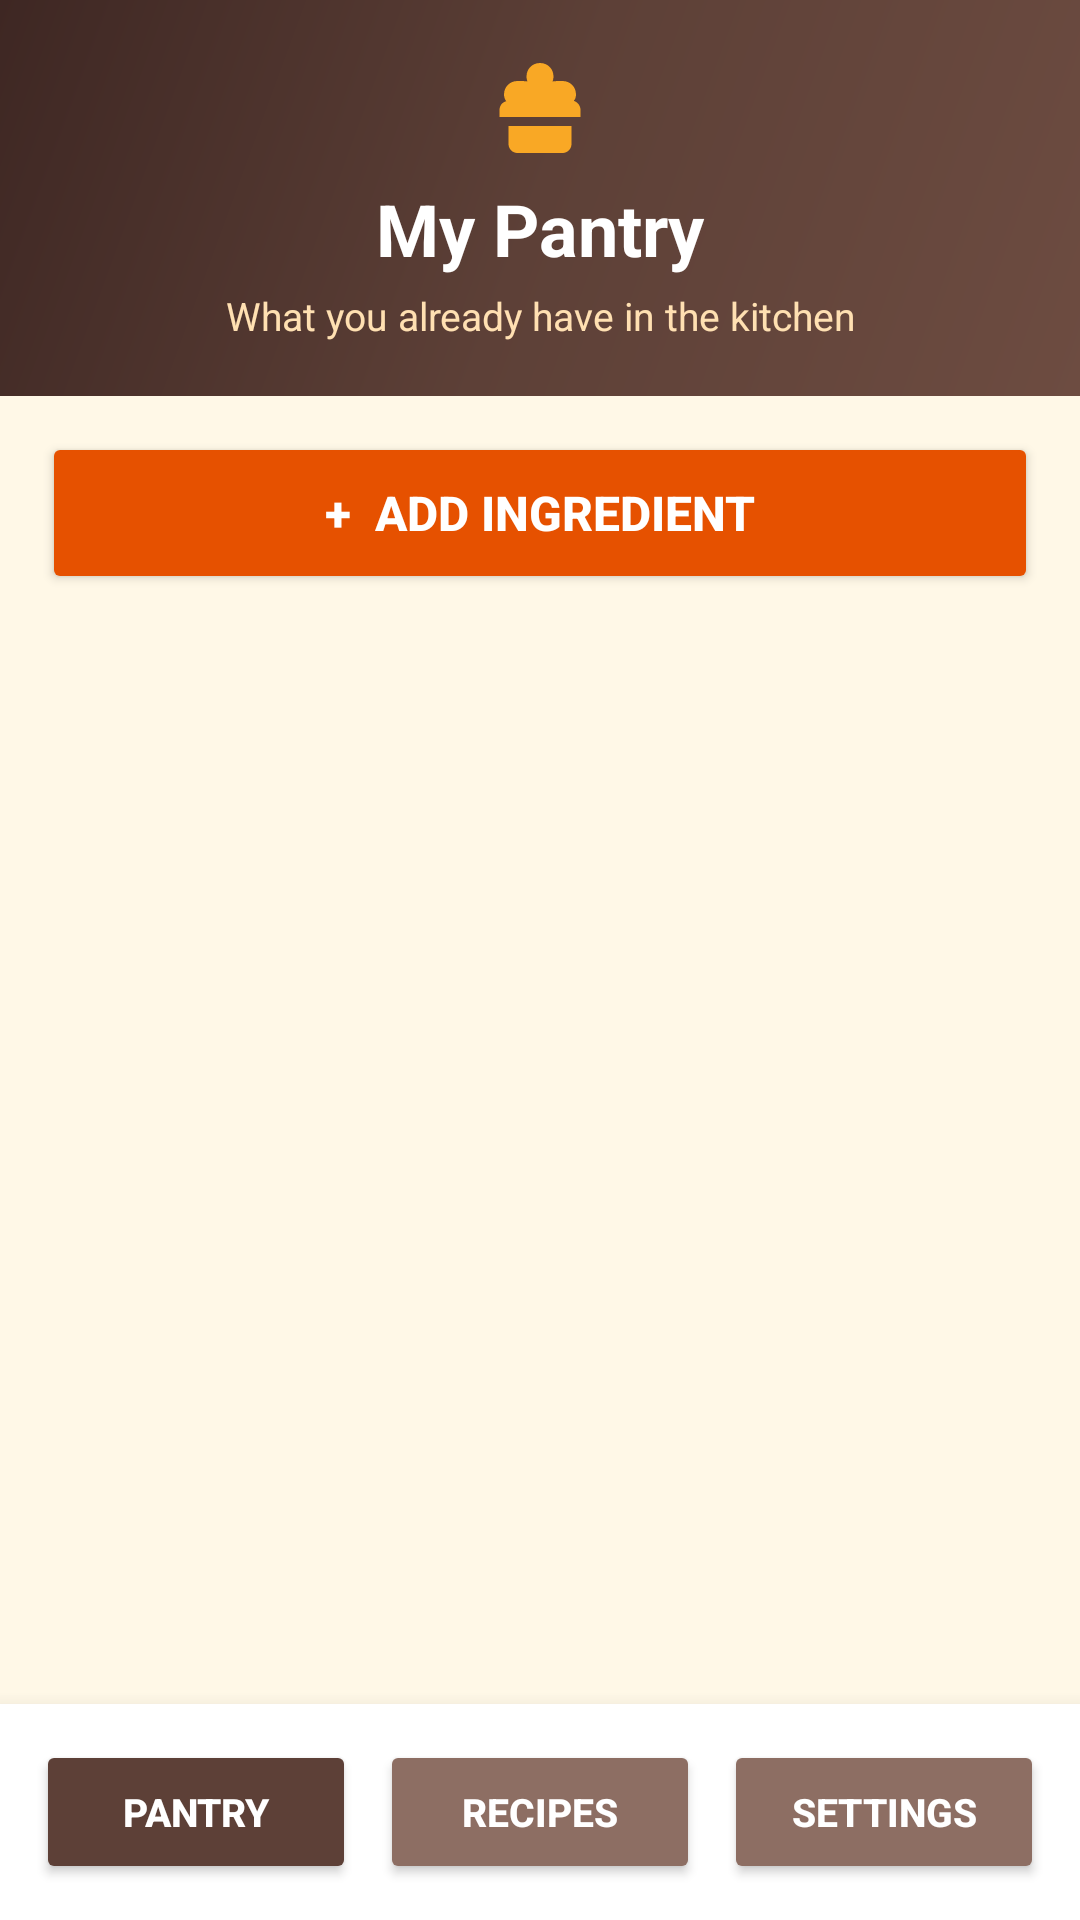

Icon bounding boxes for this 1080px×1920px phone screenshot, format {"left": x1, "top": y1, "right": x2, "bottom": y2}:
Chef: {"left": 499, "top": 63, "right": 581, "bottom": 153}
